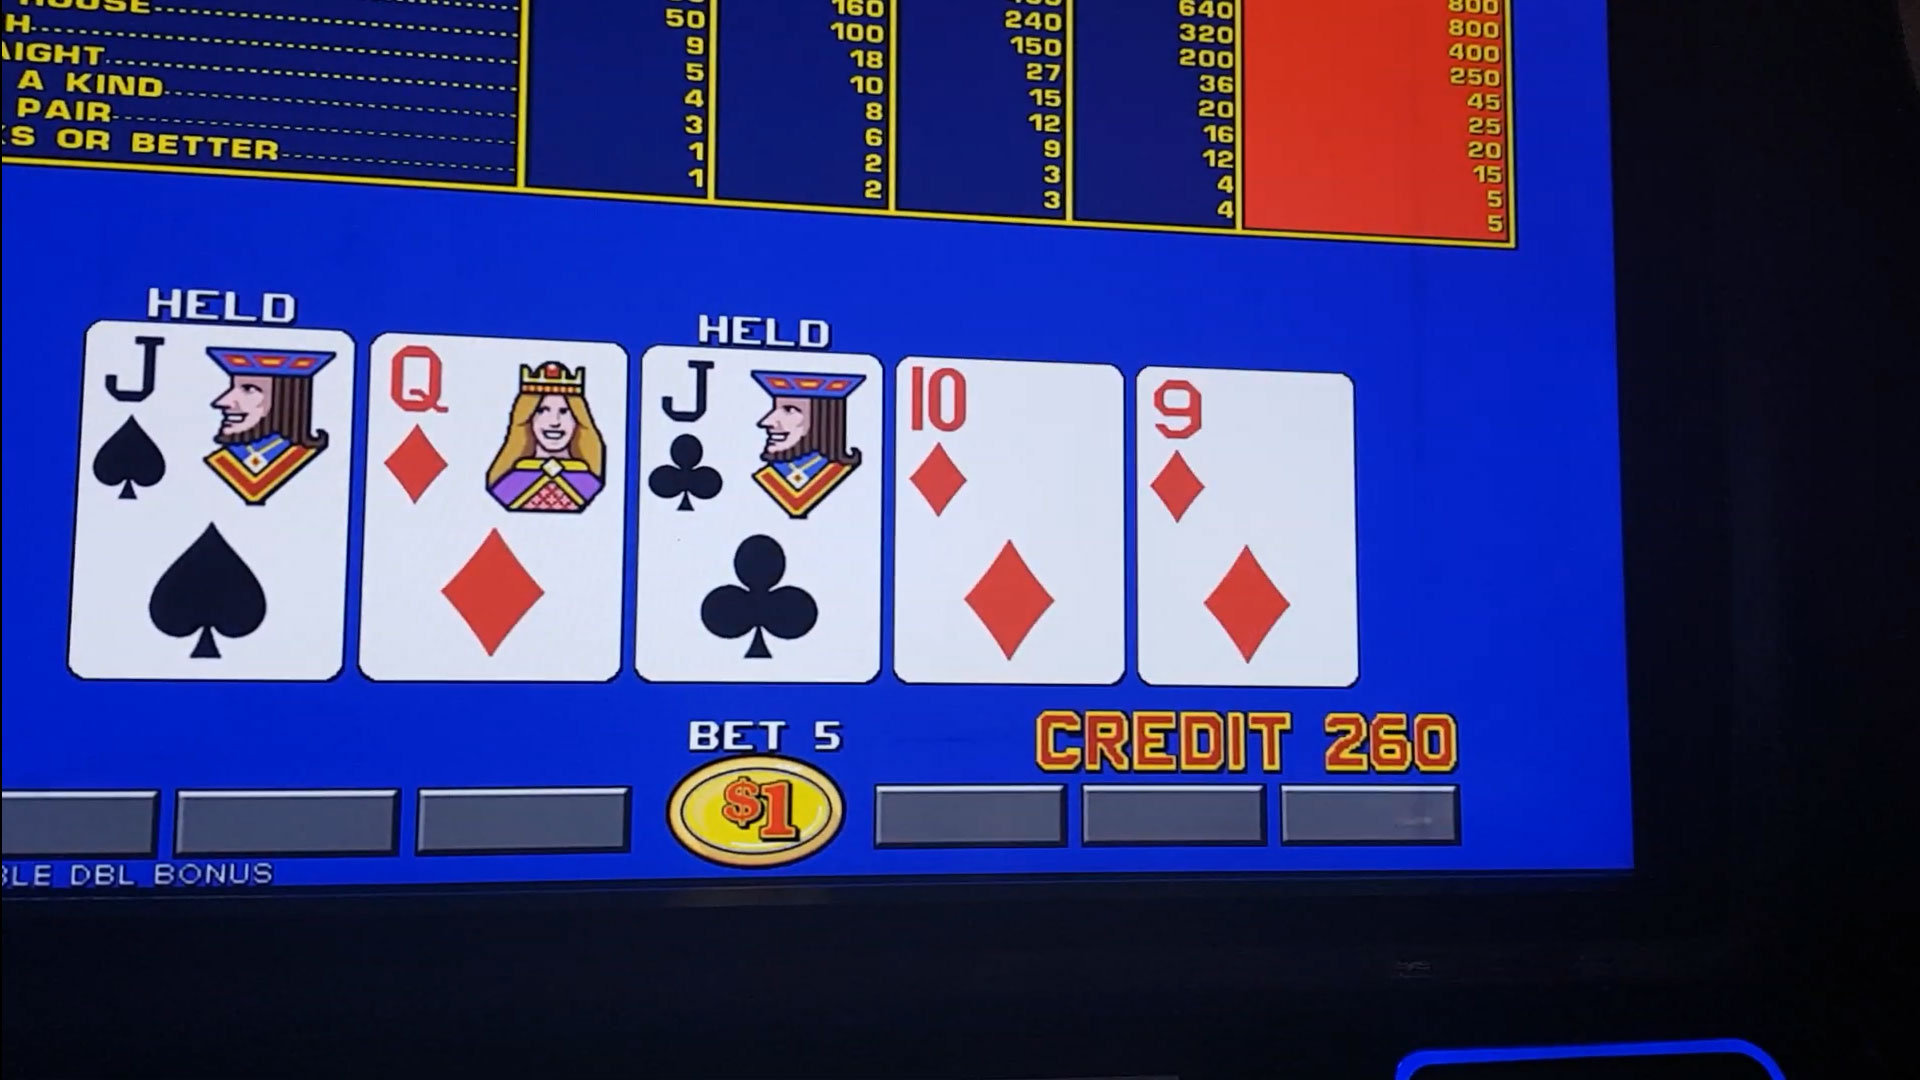CJ: (645, 360, 878, 518)
D9: (1145, 382, 1346, 525)
DQ: (371, 349, 618, 512)
DT: (898, 371, 1116, 517)
SJ: (92, 334, 345, 512)
